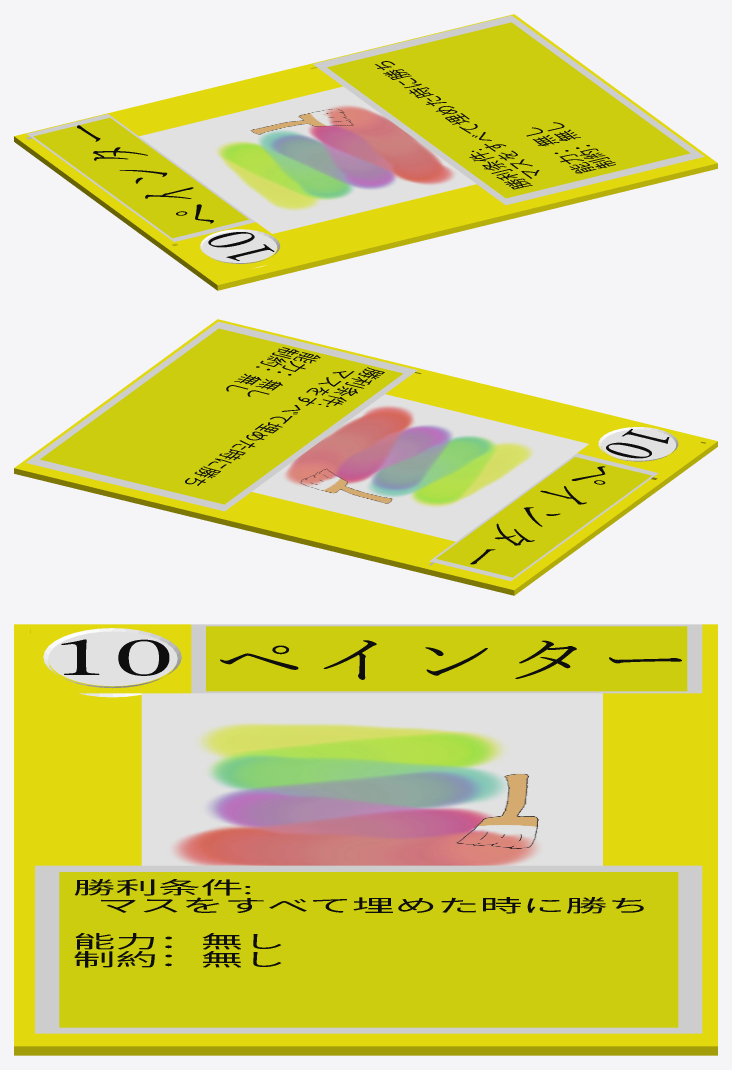
The model's file is ペインター黄.fbx.
3 renders of one model, top to bottom at view 1: azimuth 30°, elevation 25°; view 2: azimuth 150°, elevation 25°; view 3: azimuth 270°, elevation 25°, orthographic. The views are drawn at different scales.
Parts seen in each view (by area): view 1: 説明欄, 平面.001, カード本体.001, 名前欄, 説明文, 平面, 円, 名前, コスト; view 2: 説明欄, 平面.001, カード本体.001, 名前欄, 説明文, 平面, 円, 名前, コスト; view 3: 説明欄, 平面.001, カード本体.001, 名前欄, 説明文, 平面, 円, 名前, コスト蘭, コスト.
Boxes of the visible parts, box(x1,y1,x2,y2) form: 説明欄: box(313, 15, 704, 205); 平面.001: box(139, 86, 476, 233); カード本体.001: box(14, 14, 717, 290); 名前欄: box(27, 114, 255, 241); 説明文: box(375, 61, 615, 189); 平面: box(174, 222, 302, 275); 円: box(202, 231, 276, 262); 名前: box(77, 125, 213, 223); コスト: box(208, 232, 274, 260); 説明欄: box(26, 321, 417, 511); 平面.001: box(252, 394, 588, 541); カード本体.001: box(14, 319, 717, 595); 名前欄: box(429, 453, 658, 581); 説明文: box(185, 347, 384, 485); 平面: box(577, 419, 704, 472); 円: box(601, 429, 675, 460); 名前: box(470, 466, 605, 564); コスト: box(606, 429, 669, 458); 説明欄: box(35, 865, 702, 1033); 平面.001: box(141, 693, 602, 865); カード本体.001: box(14, 624, 717, 1055); 名前欄: box(191, 624, 702, 693); 説明文: box(74, 879, 643, 967); 平面: box(30, 624, 191, 693); 円: box(48, 631, 177, 686); 名前: box(220, 640, 681, 679); コスト蘭: box(43, 628, 181, 697); コスト: box(61, 639, 169, 675).
Bounding box in the file's own units: 281 × 6.07 × 198.
